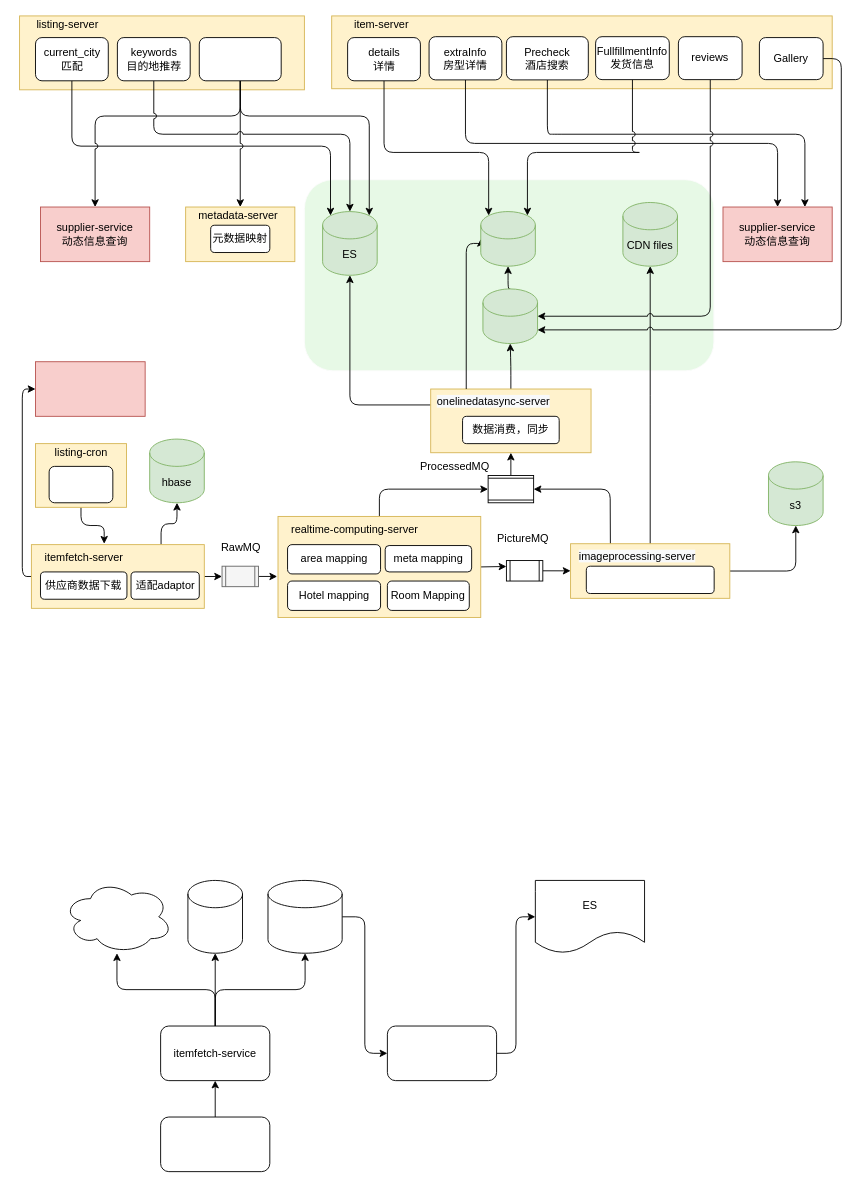
The diagram is 865 pixels wide and 1188 high, and some of its shapes have lost their labels. The centre of each missing label's shape, as x and y in pixels:
"CDN picture" goes at [117,916].
"cron定时任务管理" goes at [80,484].
"DB" goes at [510,316].
"mysql static content" goes at [304,916].
"Redis" goes at [507,238].
"redis stock/price" goes at [215,916].
"search 酒店搜索" goes at [239,59].
"supplier service" goes at [215,1144].
"supplier-service" goes at [90,388].
"图片下载、裁剪、上传" goes at [649,579].
"索引构建服务 indexer 增量/全量" goes at [441,1053].
